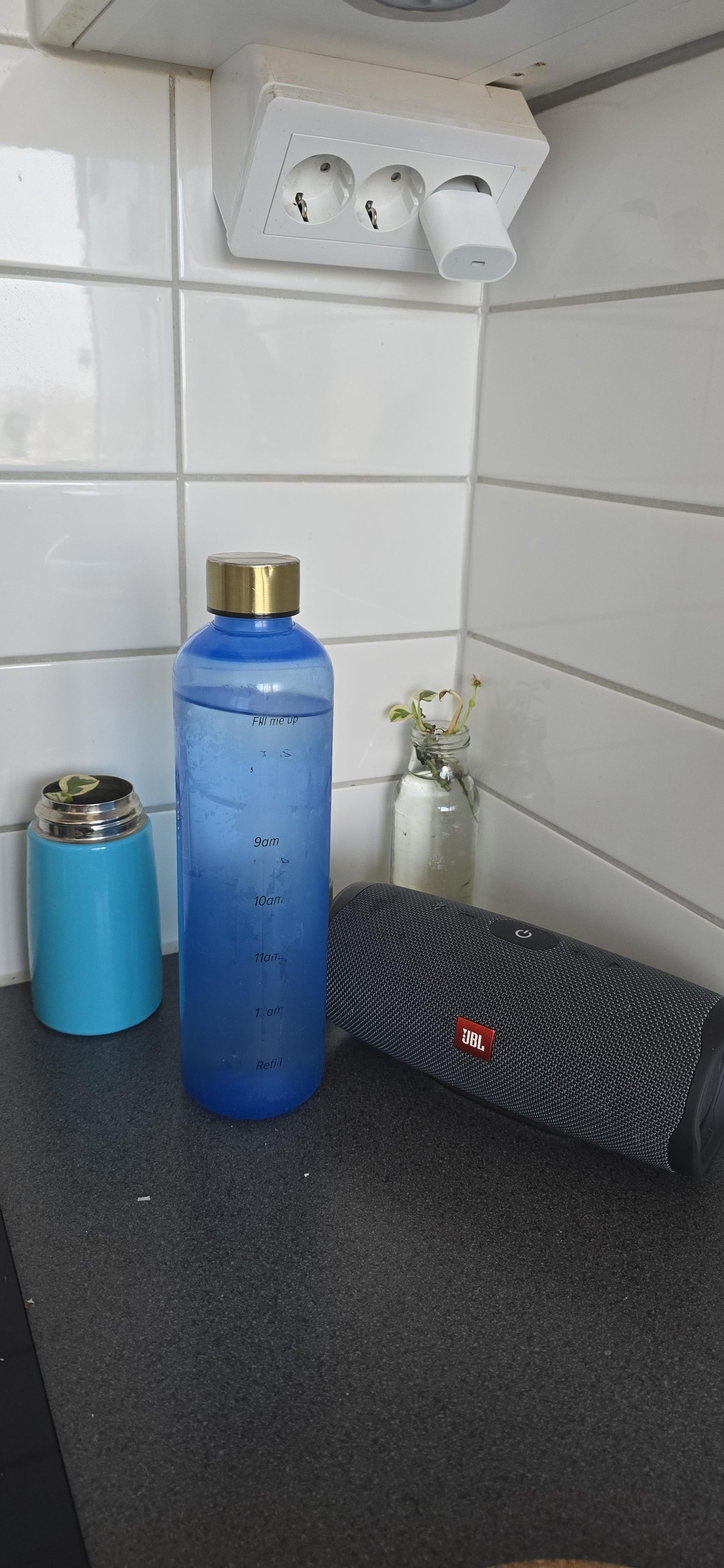bottle: (172, 510, 360, 1126)
